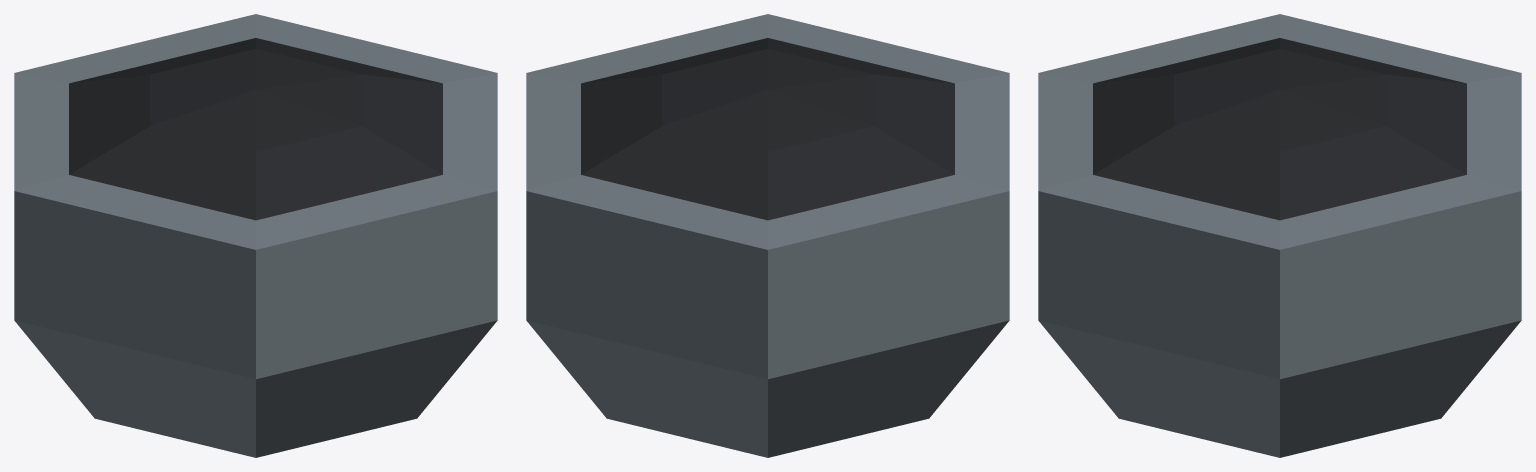
The model's file is SM_Prop_Tweeter_01.fbx.
The picture shows the model from 3 angles, left to right: view 1: azimuth 30°, elevation 25°; view 2: azimuth 150°, elevation 25°; view 3: azimuth 270°, elevation 25°; orthographic projection.
Visible parts, largest first — view 1: SM_Prop_Tweeter_01; view 2: SM_Prop_Tweeter_01; view 3: SM_Prop_Tweeter_01.
Part boxes in pixels (left/top/right/bottom): SM_Prop_Tweeter_01: left=14, top=14, right=497, bottom=457; SM_Prop_Tweeter_01: left=526, top=14, right=1009, bottom=457; SM_Prop_Tweeter_01: left=1038, top=14, right=1521, bottom=457.
Bounding box in the file's own units: 24.45 × 14 × 21.18.
